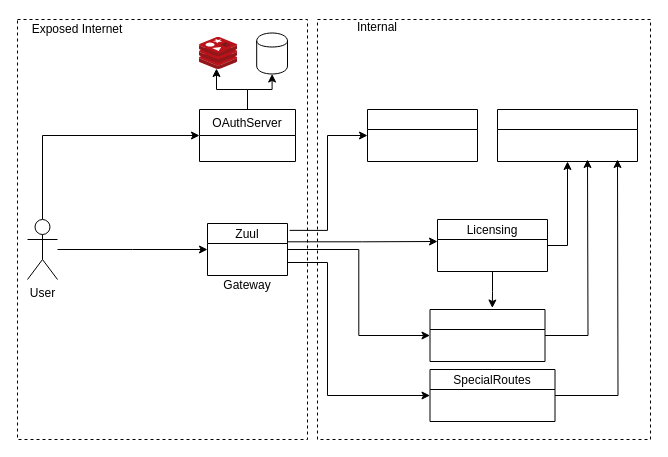
Some shapes in this 668 by 457 pixel diagram are drawn without their labels. Here are the shapes that lost their labels. From the top down, the centre of each, then its label:
[422,135]: EurekaServer
[567,135]: ConfigutationServer
[487,335]: Organization
